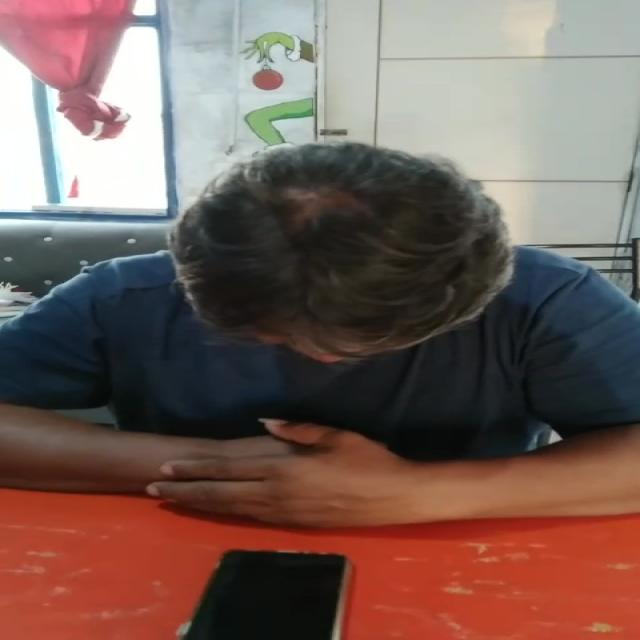9_cabeza_baja: (167, 144, 512, 365)
